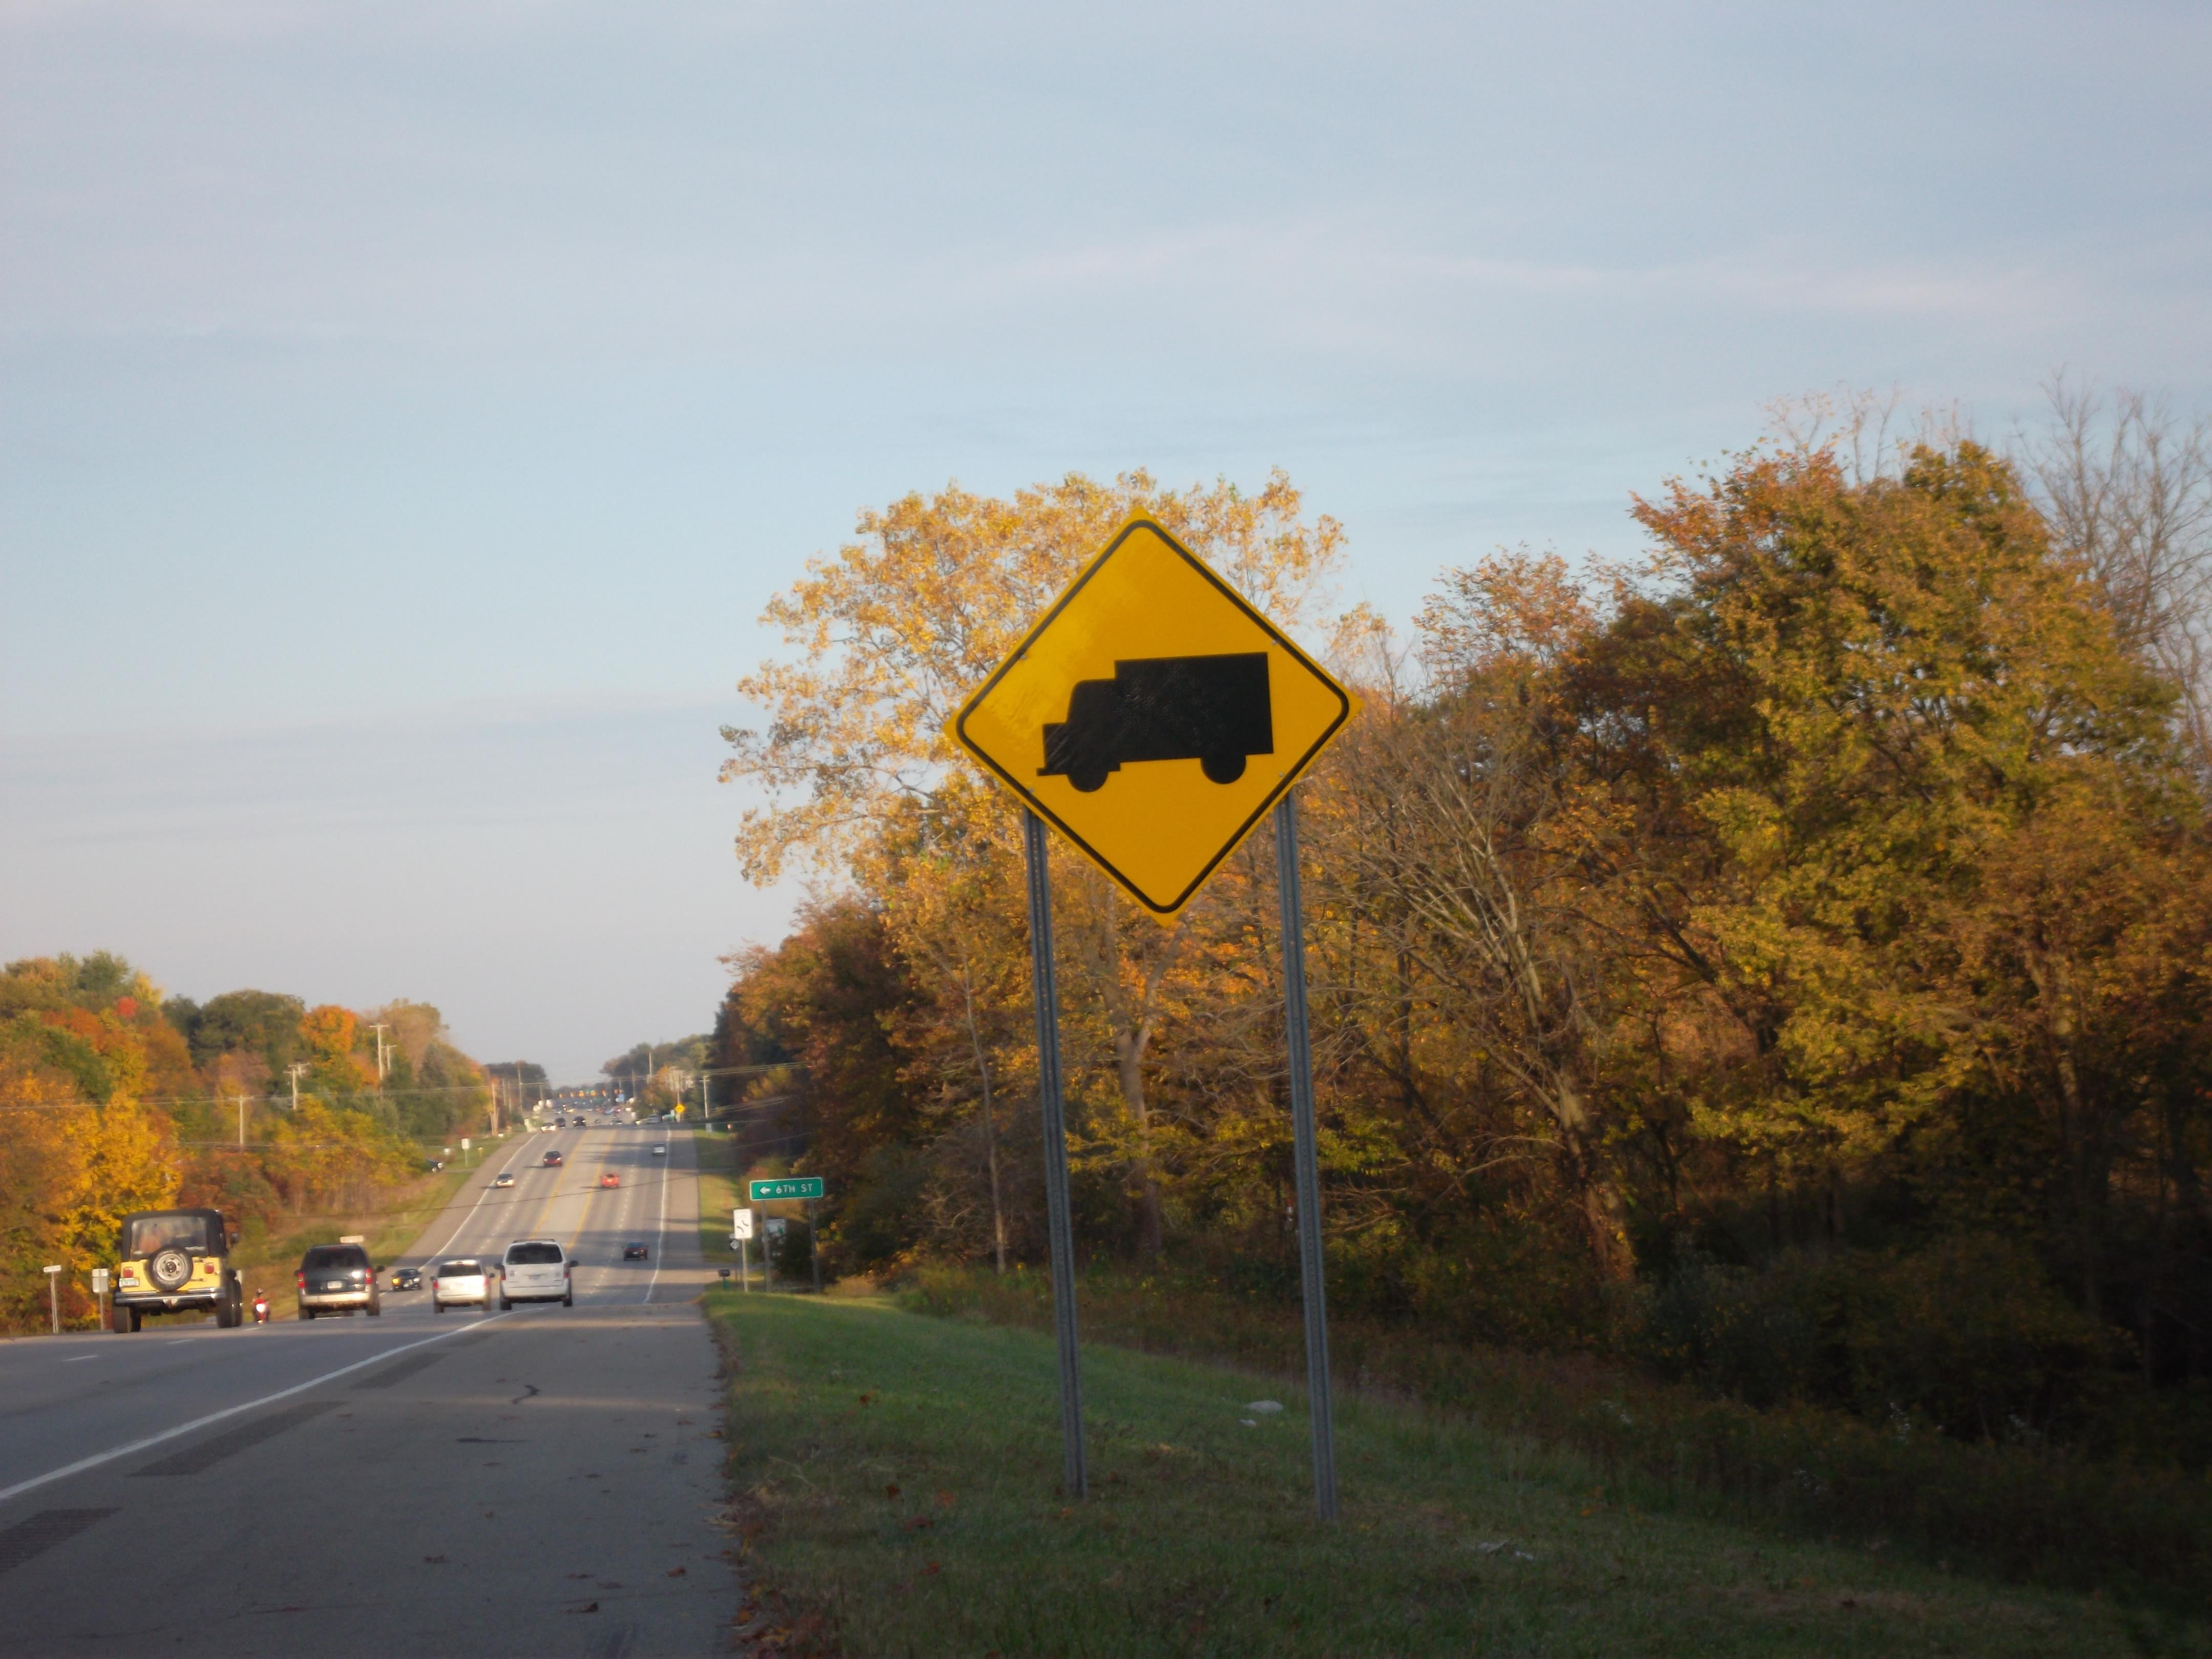warning: (949, 516, 1357, 913)
